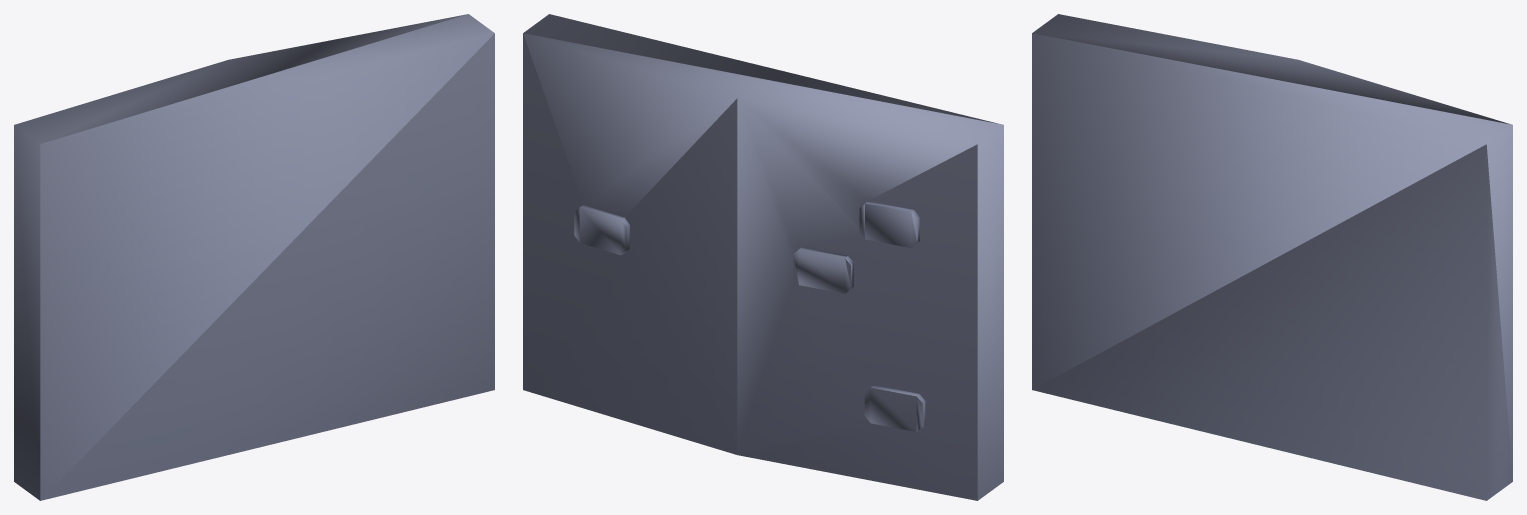
The model's file is template-wall-top_lev2.glb.
3 views of the same model, side by side, from view 1: azimuth 30°, elevation 25°; view 2: azimuth 150°, elevation 25°; view 3: azimuth 330°, elevation 25° (orthographic).
Visible parts, largest first — view 1: template-wall-top_lev2; view 2: template-wall-top_lev2; view 3: template-wall-top_lev2.
Part boxes in pixels (x1,y1,x2,y2): template-wall-top_lev2: (14,14,494,500); template-wall-top_lev2: (523,14,1003,500); template-wall-top_lev2: (1032,14,1512,500).
Bounding box in the file's own units: 4 × 3 × 0.6011.
1 material, 1 textured.
